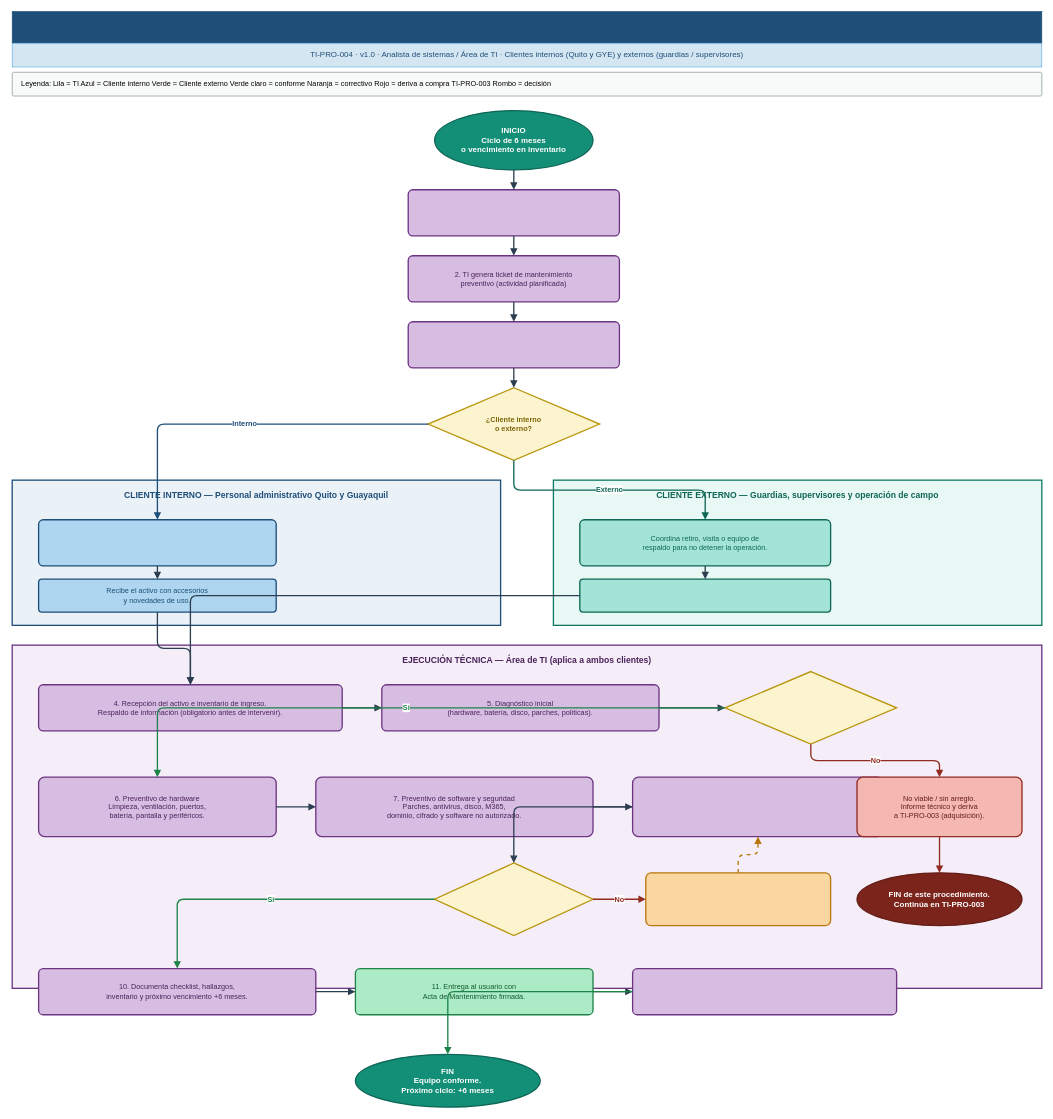
The diagram is 1053 pixels wide and 1119 high, and some of its shapes have lost their labels. Here are the shapes that lost their labels. From the top down, the centre of each, then its label:
At (x=527, y=27): "MANTENIMIENTO PREVENTIVO DE EQUIPOS INFORMÁTICOS — CICLO SEMESTRAL".
At (x=513, y=212): "1. TI elabora el plan semestral (inventario, sede, usuario, fecha objetivo)".
At (x=513, y=344): "3. Notifica al usuario / jefatura (mínimo 5 días hábiles)".
At (x=157, y=542): "Coordina cita en oficina o taller TI. Usuario deja el equipo disponible.".
At (x=705, y=595): "Supervisión de campo facilita tablets y laptops en la ventana acordada.".
At (x=810, y=707): "¿El equipo es viable de mantener?".
At (x=758, y=806): "8. Pruebas funcionales Arranque, correo, red, apps de operación.".
At (x=513, y=899): "¿Equipo queda operativo?".
At (x=738, y=899): "Correctivo menor (pieza en stock / ajuste). Repite pruebas.".
At (x=764, y=991): "12. Cierra ticket e incluye el caso en el informe semestral a Gerencia.".
